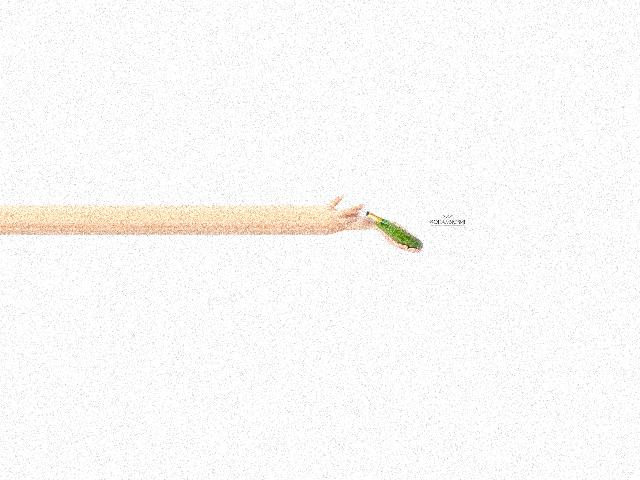cucumber: (375, 218, 422, 249)
